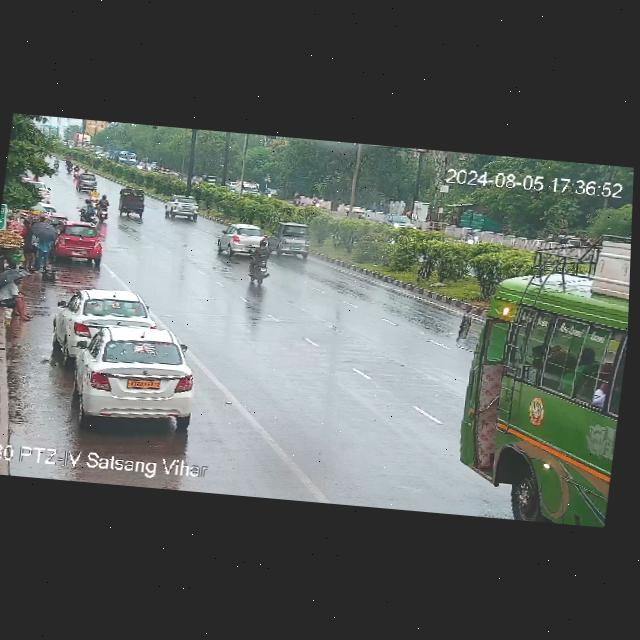bus: (424, 240, 631, 527)
car: (63, 324, 202, 430), (53, 284, 153, 356), (52, 223, 104, 264), (214, 224, 269, 258), (267, 220, 315, 258), (164, 192, 201, 218), (117, 188, 147, 216), (385, 212, 421, 232), (386, 212, 416, 231), (74, 172, 97, 191), (33, 179, 52, 201)
motorcycle: (245, 246, 276, 289), (80, 199, 98, 221), (97, 194, 110, 222), (465, 230, 481, 244), (87, 187, 100, 204), (311, 196, 323, 208), (294, 193, 302, 206)
person: (15, 210, 61, 270), (0, 270, 40, 323)
